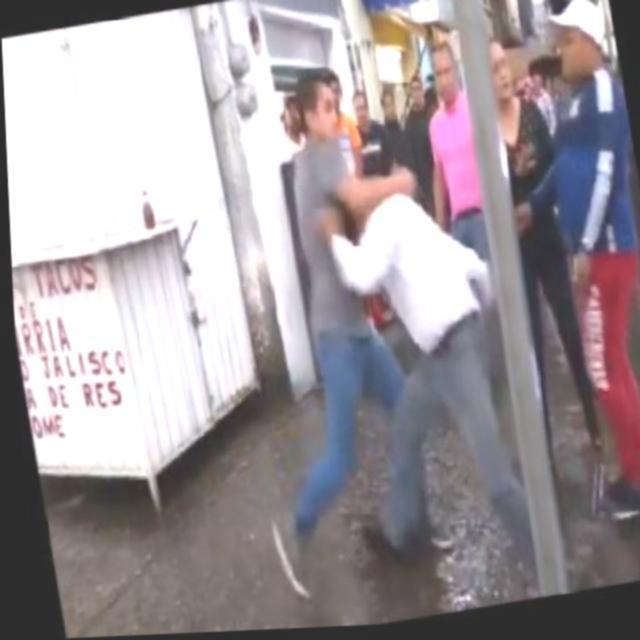fight: (248, 50, 529, 585)
